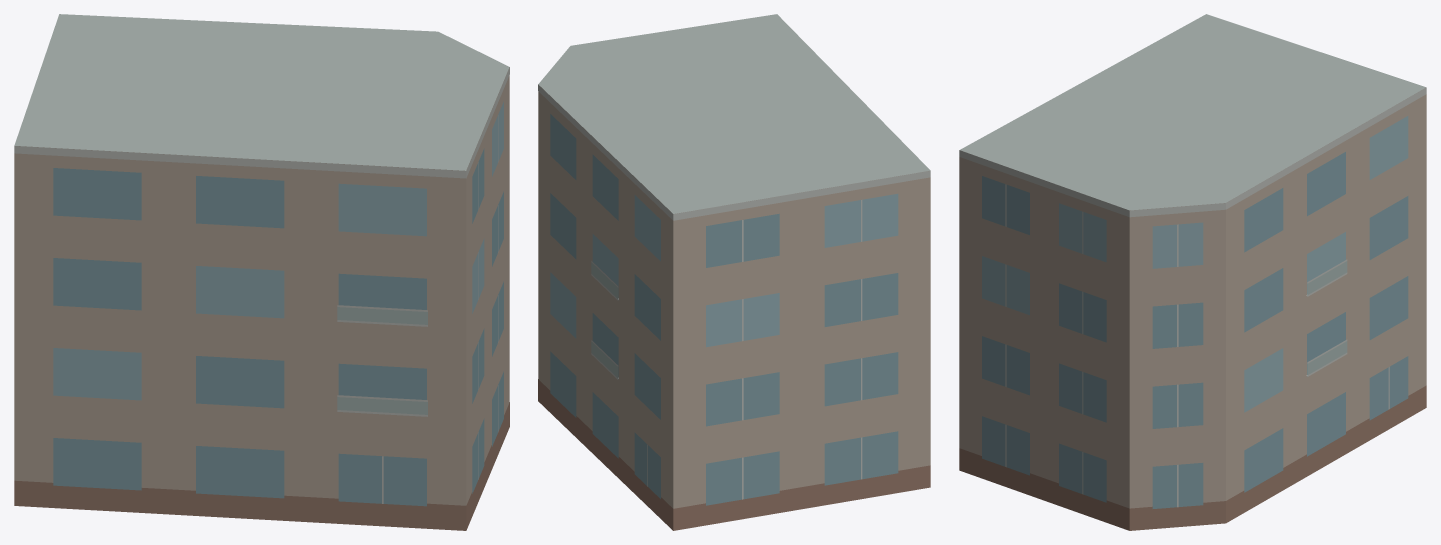
File: survey-upis-32809991.glb
3 renders of one model, left to right at view 1: azimuth 30°, elevation 25°; view 2: azimuth 150°, elevation 25°; view 3: azimuth 270°, elevation 25°, orthographic. The views are drawn at different scales.
Parts seen in each view (by area): view 1: survey-upis-32809991.tmp; view 2: survey-upis-32809991.tmp; view 3: survey-upis-32809991.tmp.
Part boxes in pixels (x1=…): survey-upis-32809991.tmp: x1=14, y1=14, x2=509, y2=530; survey-upis-32809991.tmp: x1=538, y1=14, x2=930, y2=530; survey-upis-32809991.tmp: x1=959, y1=14, x2=1426, y2=530.
Bounding box in the file's own units: 15.13 × 11.5 × 15.2.
